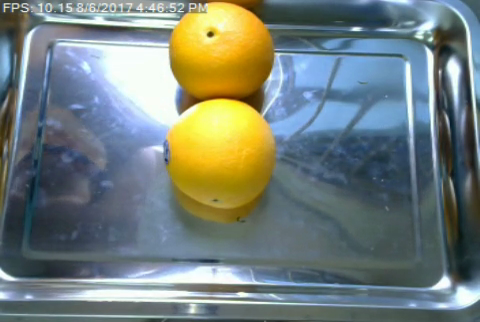Orange: (164, 99, 278, 209), (170, 2, 277, 99)
